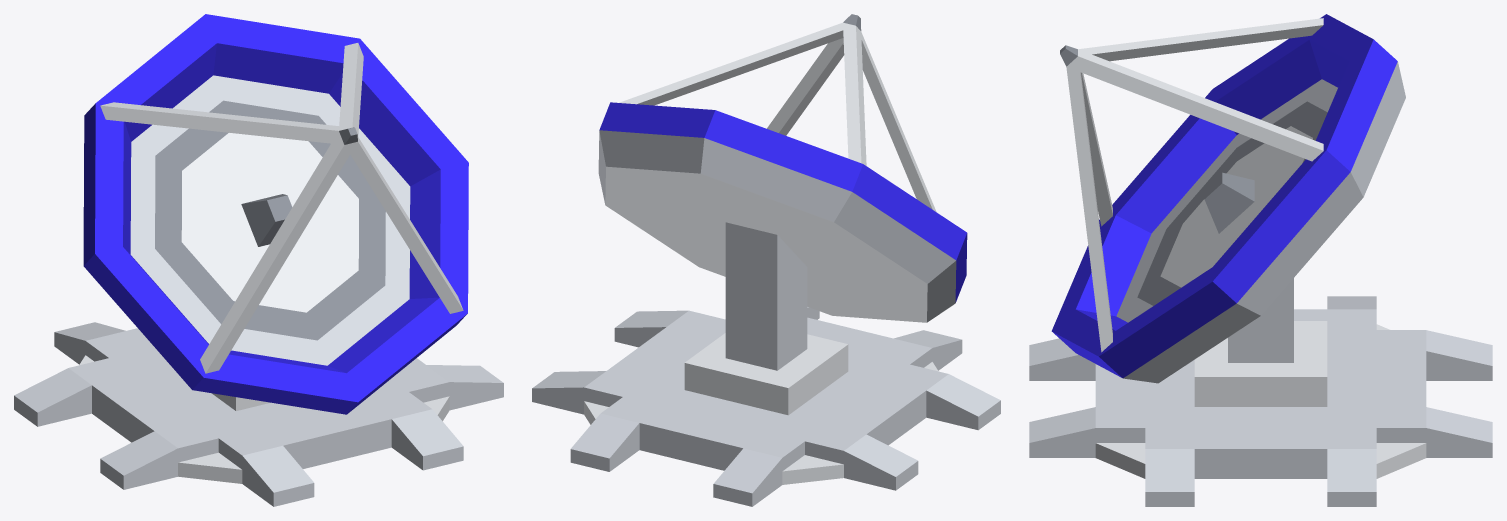
File: satelliteDish.glb
3 views of the same model, side by side, from view 1: azimuth 30°, elevation 25°; view 2: azimuth 150°, elevation 25°; view 3: azimuth 270°, elevation 25° (orthographic). The views are drawn at different scales.
Visible parts, largest first — view 1: satelliteDish_detailed; view 2: satelliteDish_detailed; view 3: satelliteDish_detailed.
Part boxes in pixels (<box>): satelliteDish_detailed: <box>14,14,503,506</box>; satelliteDish_detailed: <box>532,14,1000,506</box>; satelliteDish_detailed: <box>1029,14,1492,506</box>.
Size of the model in its own units: 7 by 6.16 by 7.
